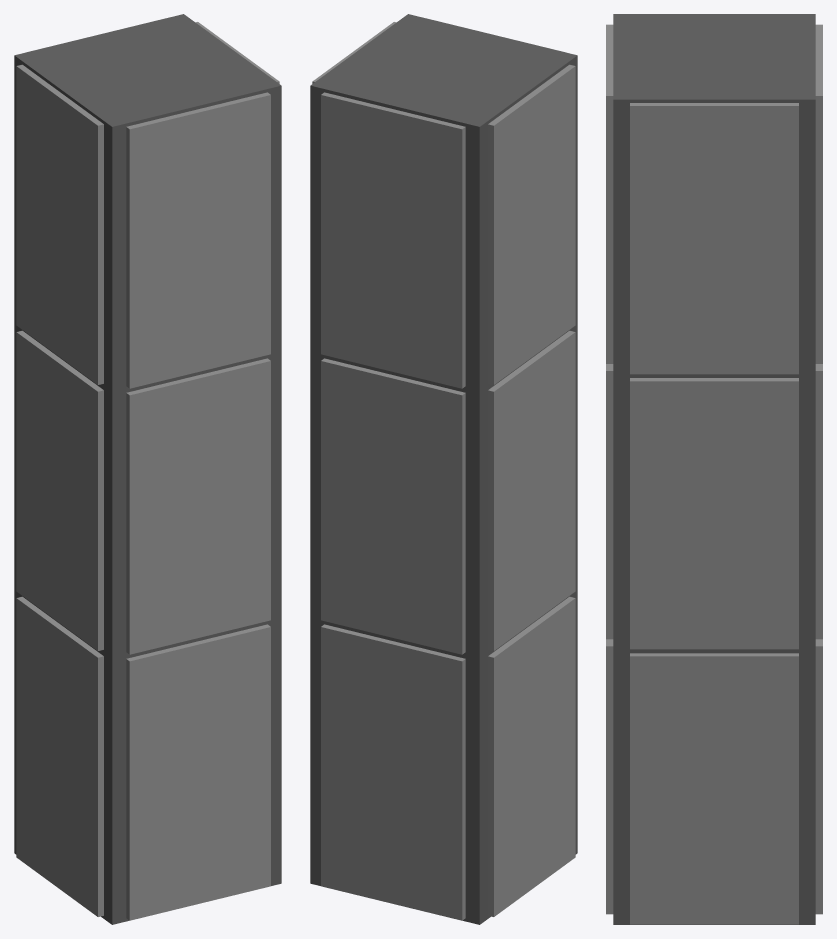
The model's file is Pillar_09.FBX.
The picture shows the model from 3 angles, left to right: view 1: azimuth 30°, elevation 25°; view 2: azimuth 150°, elevation 25°; view 3: azimuth 270°, elevation 25°; orthographic projection. The views are drawn at different scales.
Visible parts, largest first — view 1: Pillar_09_LOD0; view 2: Pillar_09_LOD0; view 3: Pillar_09_LOD0.
Boxes of the visible parts, bbox=[...] form: Pillar_09_LOD0: bbox=[14, 14, 281, 924]; Pillar_09_LOD0: bbox=[310, 14, 577, 924]; Pillar_09_LOD0: bbox=[606, 14, 822, 924].
Size of what is drawn, in the model's own units: 42.86 by 180 by 42.86.
